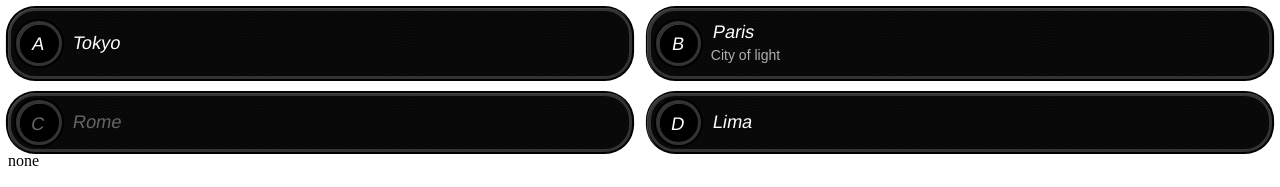
Test case: ChoiceGroup › multiple controlled
Click the checkbox labelled "Lima".
click(679, 123)  # box [648,93,1272,152]
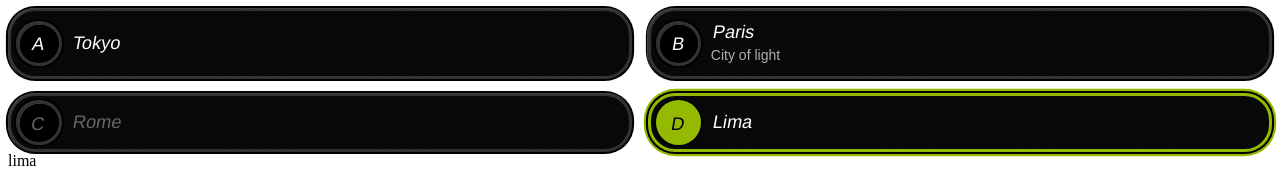
Click the checkbox labelled "Tokyo".
click(39, 44)  # box [8,8,632,79]
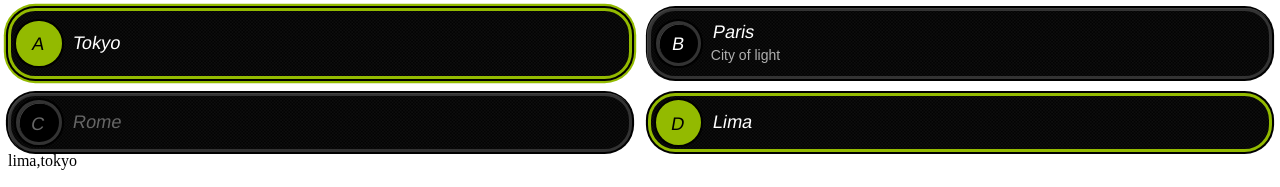
Now the text "lima,tokyo" is shown, box [8,152,77,169]
